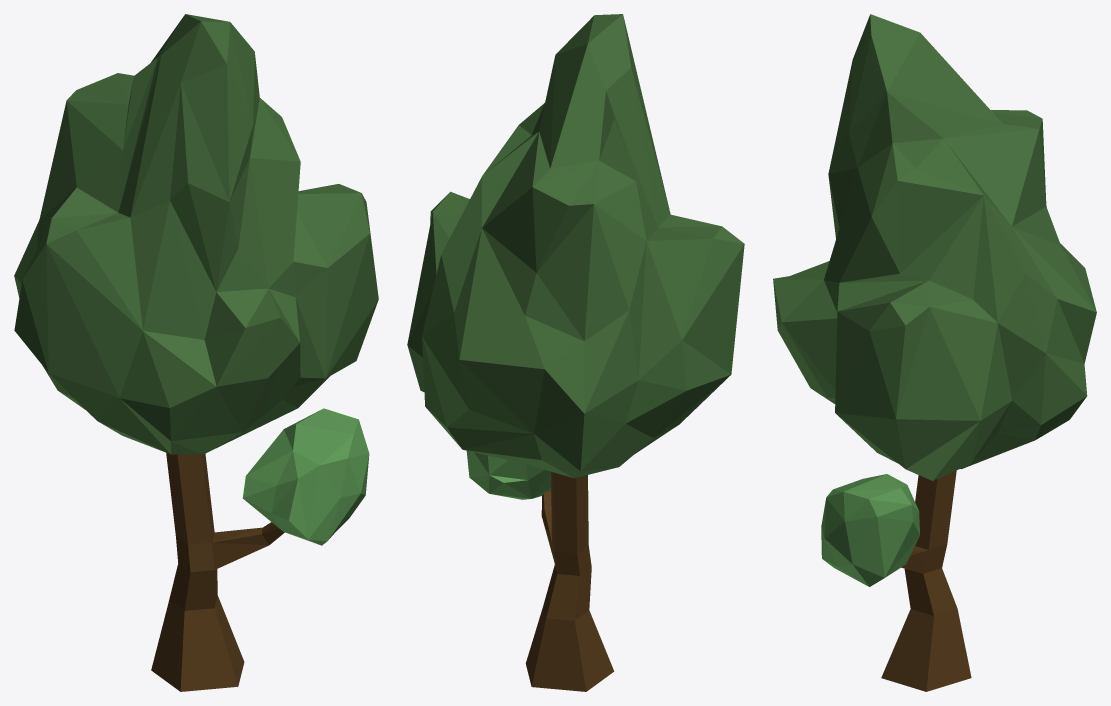
The model's file is SM_Env_Tree_03.fbx.
3 views of the same model, side by side, from view 1: azimuth 30°, elevation 25°; view 2: azimuth 150°, elevation 25°; view 3: azimuth 270°, elevation 25° (orthographic). The views are drawn at different scales.
Visible parts, largest first — view 1: SM_Tree_03; view 2: SM_Tree_03; view 3: SM_Tree_03.
Boxes of the visible parts, x1,y1,x2,y2 form: SM_Tree_03: [14, 14, 378, 691]; SM_Tree_03: [407, 14, 744, 691]; SM_Tree_03: [773, 14, 1096, 691].
Bounding box in the file's own units: 3.18 × 6.21 × 2.83.
